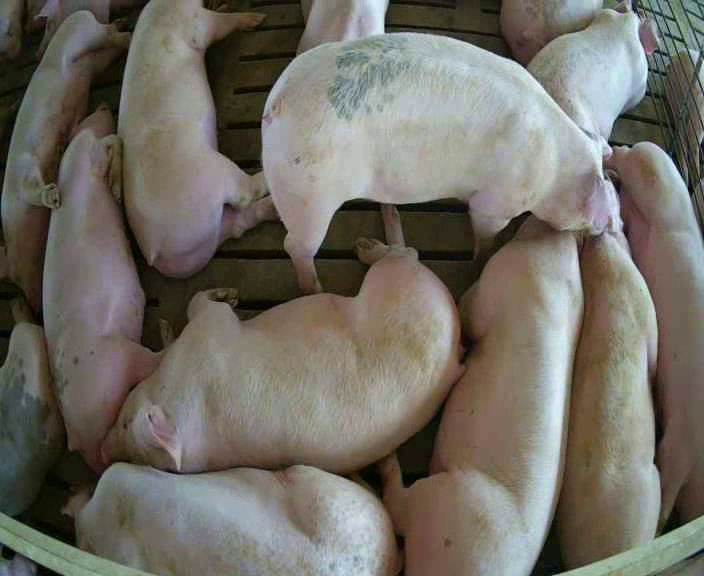pig: (104, 207, 460, 472), (262, 33, 624, 291), (348, 218, 582, 574), (43, 104, 173, 470), (118, 2, 274, 276), (0, 10, 129, 310), (61, 463, 398, 574), (607, 142, 703, 524), (527, 0, 659, 140), (0, 298, 63, 514), (500, 1, 617, 64), (297, 1, 387, 54)
